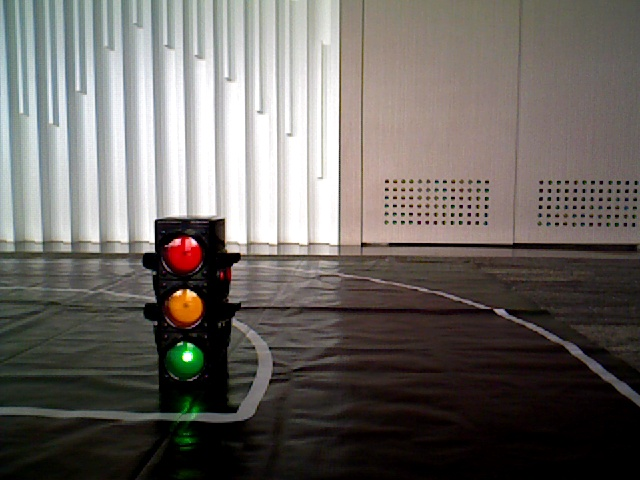green: (152, 227, 219, 390)
